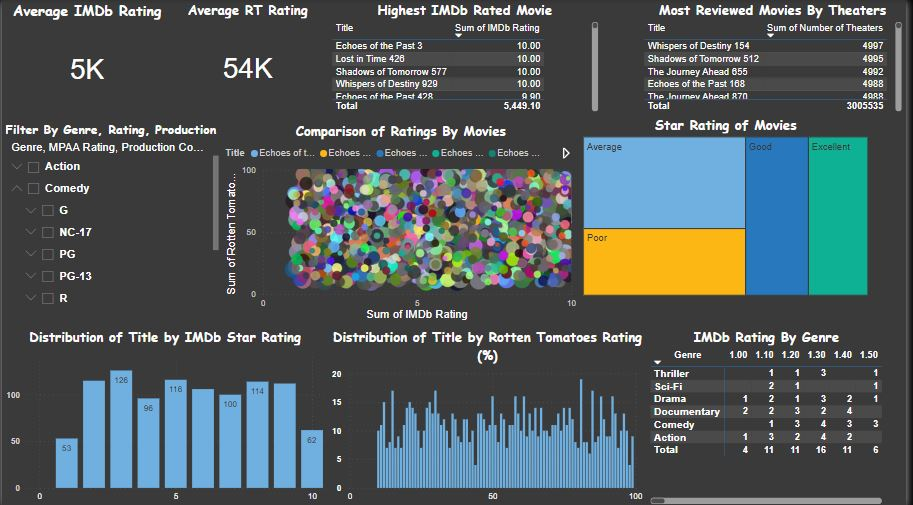

The dashboard page shown, as its layout file describes it:
{"tool":"powerbi","page":{"name":"Audience Ratings","canvas":[1280,720],"ordinal":1},"visuals":[{"type":"card","title":"Average IMDb Rating","fields":{"Values":["Sum(MoviesMergedTable.Average IMDb Rating)"]},"box":[10.1,0,221.8,164.2],"z":0},{"type":"card","title":"Average RT  Rating","fields":{"Values":["Sum(MoviesMergedTable.Average Rotten Tomatoes Rating)"]},"box":[233.3,0,229,162.7],"z":1000},{"type":"clusteredColumnChart","title":"Distribution of Title by IMDb Star Rating","fields":{"Category":["MoviesMergedTable.IMDb Star Rating"],"Y":["CountNonNull(MoviesMergedTable.Title)"]},"box":[0,459.9,461.4,260.1],"z":2000},{"type":"clusteredColumnChart","title":"Distribution of Title by Rotten Tomatoes Rating (%)","fields":{"Y":["CountNonNull(MoviesMergedTable.Title)"],"Category":["MoviesMergedTable.Rotten Tomatoes Rating (%)"]},"box":[490.8,464.3,437.9,255.7],"z":3000},{"type":"tableEx","title":"Highest IMDb Rated Movie","fields":{"Values":["MoviesMergedTable.Title","Sum(MoviesMergedTable.IMDb Rating)"]},"box":[461.6,0,387.9,162.6],"z":4000},{"type":"tableEx","title":"Most Reviewed Movies By Theaters","fields":{"Values":["MoviesMergedTable.Title","Sum(MoviesMergedTable.Number of Theaters)"]},"box":[904,0,375.8,162.6],"z":5000},{"type":"scatterChart","title":"Comparison of Ratings By Movies","fields":{"X":["Sum(MoviesMergedTable.IMDb Rating)"],"Y":["Sum(MoviesMergedTable.Rotten Tomatoes Rating (%))"],"Size":["Sum(MoviesMergedTable.Worldwide Gross (Millions))"],"Series":["MoviesMergedTable.Title"]},"box":[312,172,507,288],"z":7000},{"type":"pivotTable","title":"IMDb Rating By Genre","fields":{"Columns":["MoviesMergedTable.IMDb Rating"],"Rows":["MoviesMergedTable.Genre"],"Values":["CountNonNull(MoviesMergedTable.Title)"]},"box":[914.4,463.7,338.4,256.3],"z":8000},{"type":"treemap","title":"Star Rating of Movies","fields":{"Group":["MoviesMergedTable.Star Rating Category"],"Values":["CountNonNull(MoviesMergedTable.Title)"]},"box":[819.4,162.7,413.3,260.6],"z":9000},{"type":"slicer","title":"Filter By Genre, Rating, Production","fields":{"Values":["MoviesMergedTable.Genre","MoviesMergedTable.MPAA Rating","MoviesMergedTable.Production Company"]},"box":[0,172,312,268],"z":10000}]}

Visuals, with their boxes in screenshot pixels (x1, y1, x2, y2), scaled from the page's 1280x720 canvas onto the 913x505 screenshot:
"Average IMDb Rating" card: <bbox>7, 0, 165, 115</bbox>
"Average RT  Rating" card: <bbox>166, 0, 330, 114</bbox>
"Distribution of Title by IMDb Star Rating" clusteredColumnChart: <bbox>0, 323, 329, 504</bbox>
"Distribution of Title by Rotten Tomatoes Rating (%)" clusteredColumnChart: <bbox>350, 326, 662, 504</bbox>
"Highest IMDb Rated Movie" tableEx: <bbox>329, 0, 606, 114</bbox>
"Most Reviewed Movies By Theaters" tableEx: <bbox>645, 0, 912, 114</bbox>
"Comparison of Ratings By Movies" scatterChart: <bbox>223, 121, 584, 323</bbox>
"IMDb Rating By Genre" pivotTable: <bbox>652, 325, 894, 504</bbox>
"Star Rating of Movies" treemap: <bbox>584, 114, 879, 297</bbox>
"Filter By Genre, Rating, Production" slicer: <bbox>0, 121, 223, 309</bbox>
